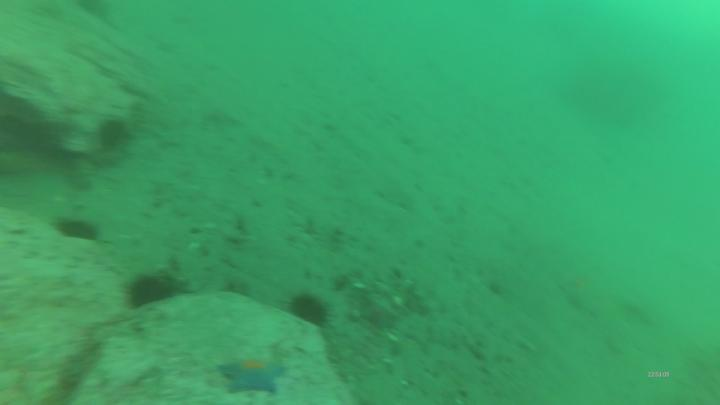echinus: (286, 290, 338, 331), (127, 274, 179, 309), (53, 215, 104, 245), (98, 118, 129, 155)
starfish: (215, 356, 291, 397)
